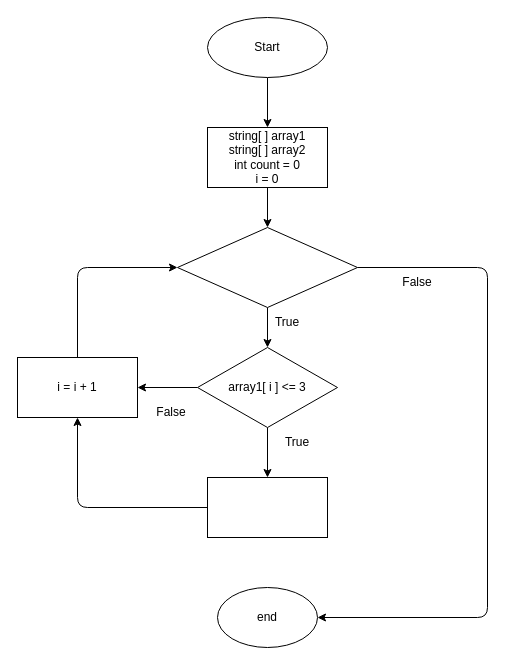
Some shapes in this 513 by 665 pixel diagram are drawn without their labels. The centre of each missing label's shape, as x and y in pixels:
"array2[ count ] = array1[ i ] count = count + 1" belongs at (267,507).
"i < Lenght" belongs at (267,267).
